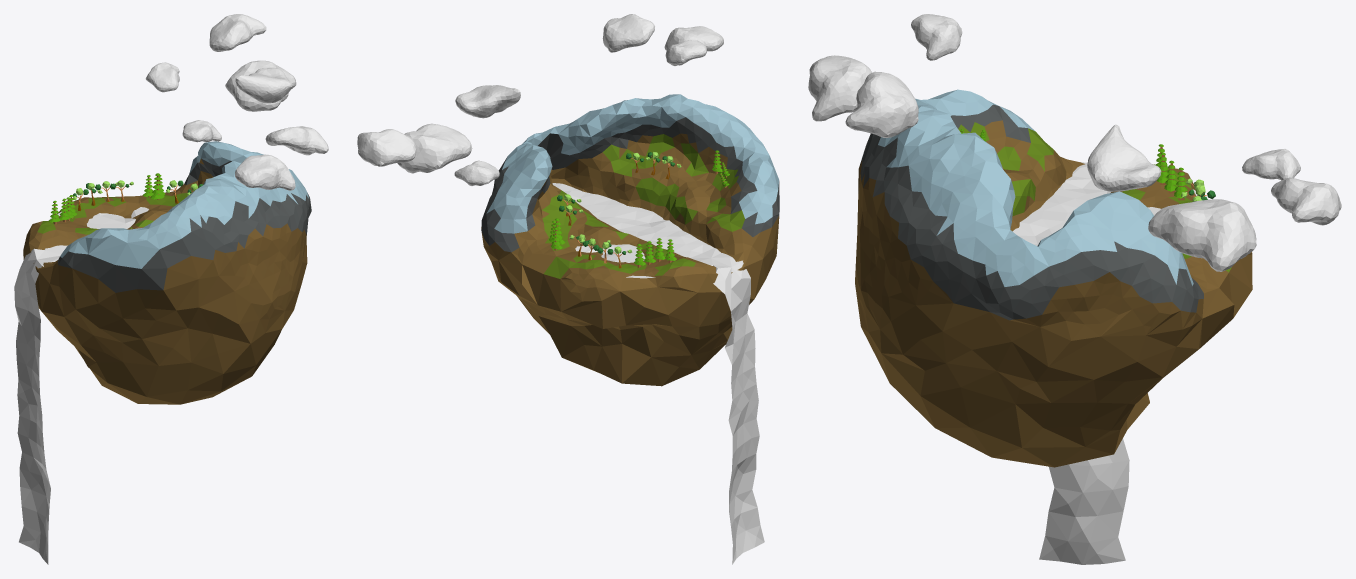
File: dgs_lowpoly_hanging_island_001.fbx
3 views of the same model, side by side, from view 1: azimuth 30°, elevation 25°; view 2: azimuth 150°, elevation 25°; view 3: azimuth 270°, elevation 25° (orthographic). The views are drawn at different scales.
Visible parts, largest first — view 1: base_world, water_mesh, cloude_set_001; view 2: base_world, water_mesh, cloude_set_001; view 3: base_world, cloude_set_001, water_mesh.
Part boxes in pixels (box(x1,y1,x2,y2)): base_world: box(23, 141, 311, 404); water_mesh: box(14, 207, 148, 564); cloude_set_001: box(145, 14, 328, 190); base_world: box(481, 94, 779, 386); water_mesh: box(552, 183, 764, 564); cloude_set_001: box(357, 14, 723, 185); base_world: box(855, 89, 1252, 467); cloude_set_001: box(808, 14, 1341, 271); water_mesh: box(1012, 162, 1207, 564).
Bounding box in the file's own units: 2489 × 3350 × 2617.
